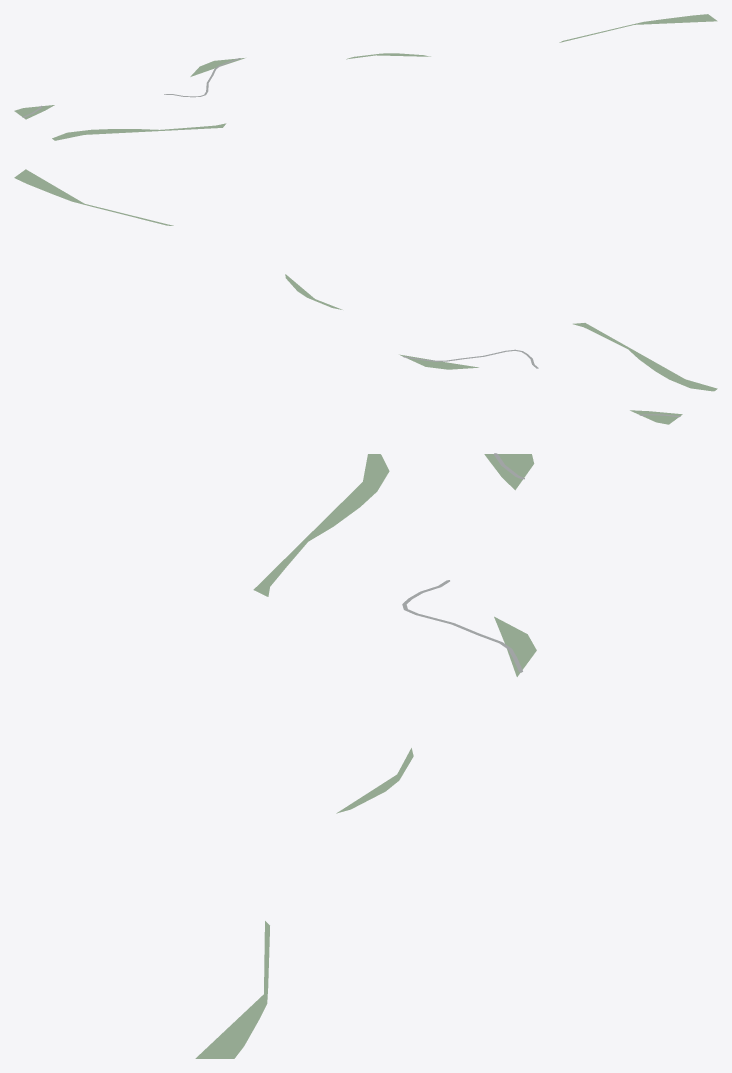
File: -11_34-known-fine.glb
3 renders of one model, top to bottom at view 1: azimuth 30°, elevation 25°; view 2: azimuth 150°, elevation 25°; view 3: azimuth 270°, elevation 25°, orthographic. The views are drawn at different scales.
Size of the model in its own units: 1000 by 0.1 by 238.
